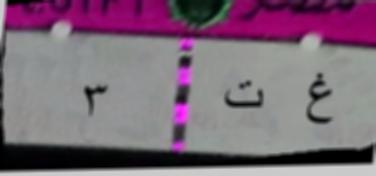3: (74, 78, 124, 124)
ghayn: (296, 66, 340, 127)
taa: (221, 78, 267, 117)
